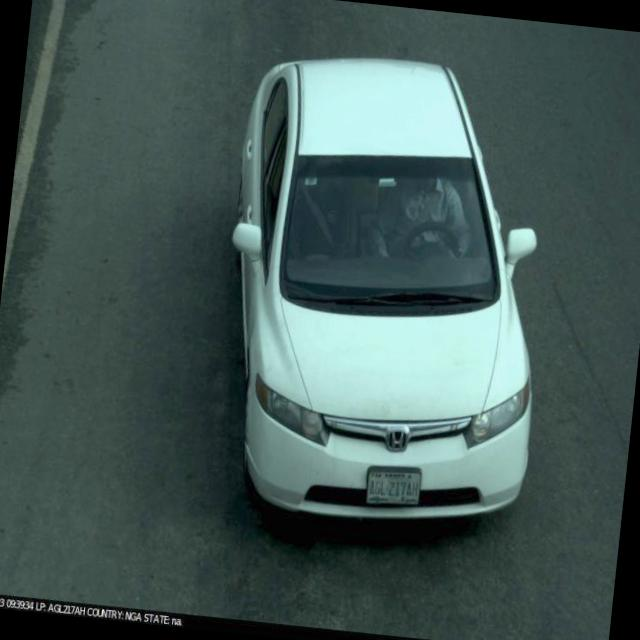person_with_seatbelt: (373, 163, 474, 286)
